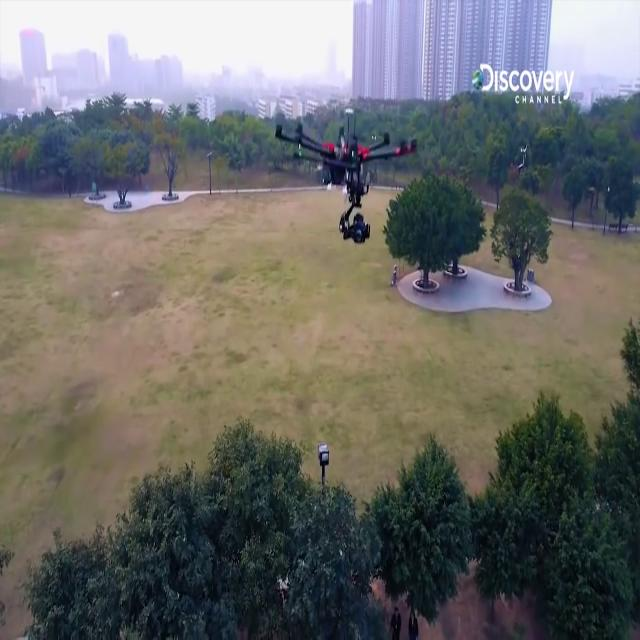drone: (273, 72, 422, 266)
